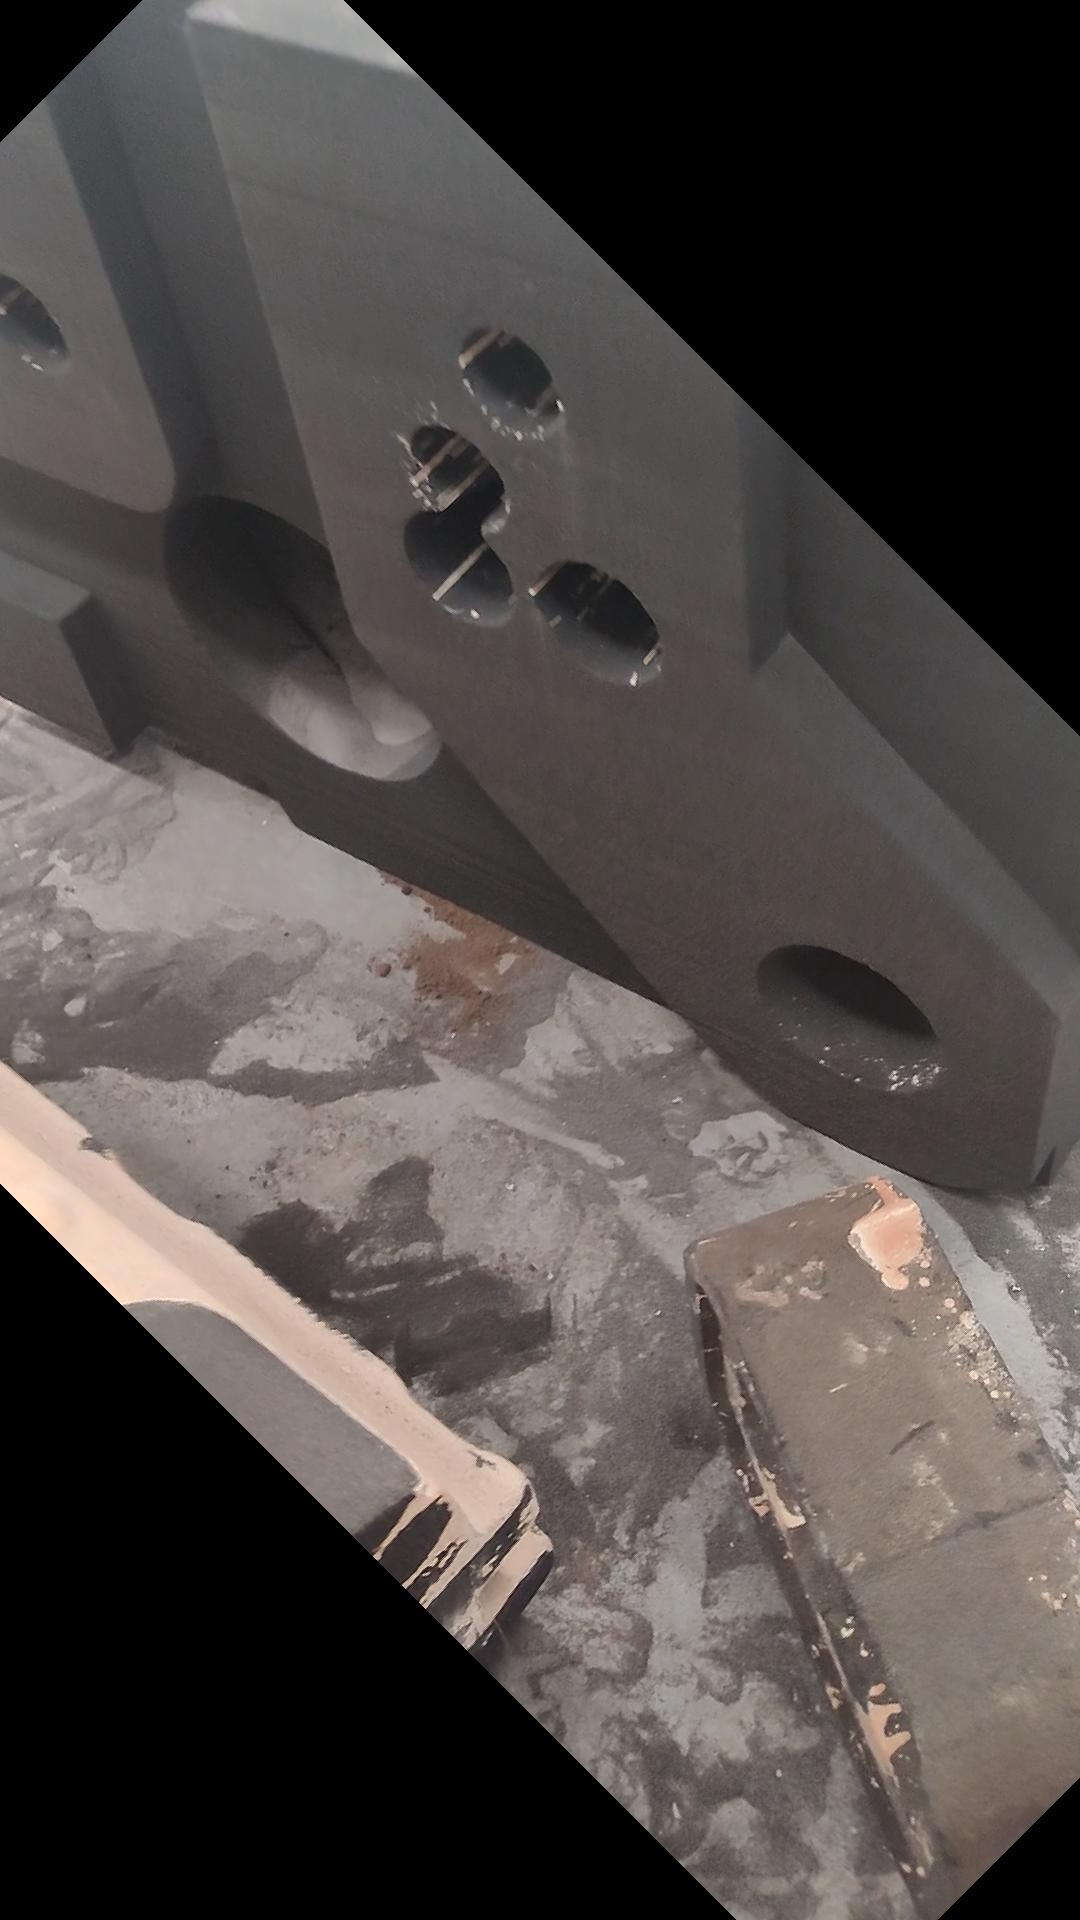pouring hole: (760, 943, 942, 1098), (1, 268, 73, 375)
